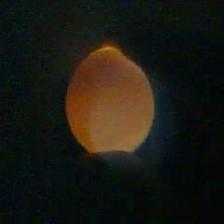infertile: (64, 44, 156, 156)
